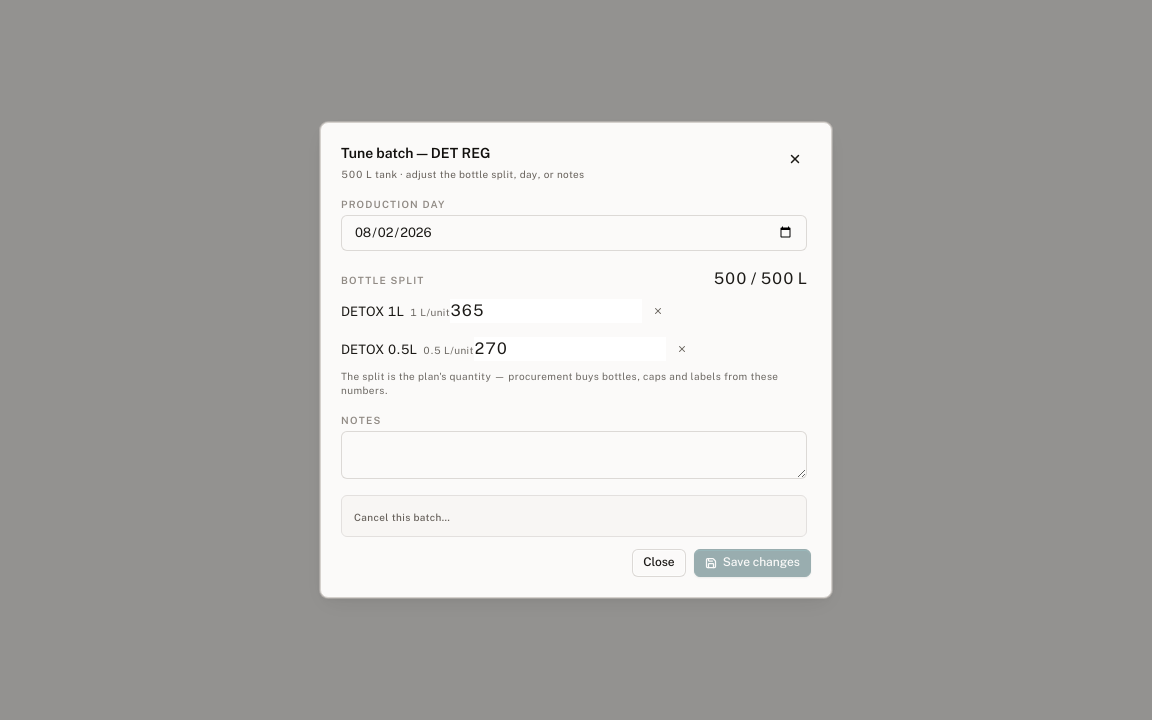
Test: BatchTuneDialog (base batch) › keeps Save disabled until something changes, then enables it and updates the meter
This screenshot has width=1152, height=720.
Expected: the button with test id "batch-tune-save" is disabled, [694,549,811,577]
Replace the text in the number field with test id "batch-tune-qty-FG-DET-1L" with "265" at coordinates (546, 311), box [450,299,642,323]
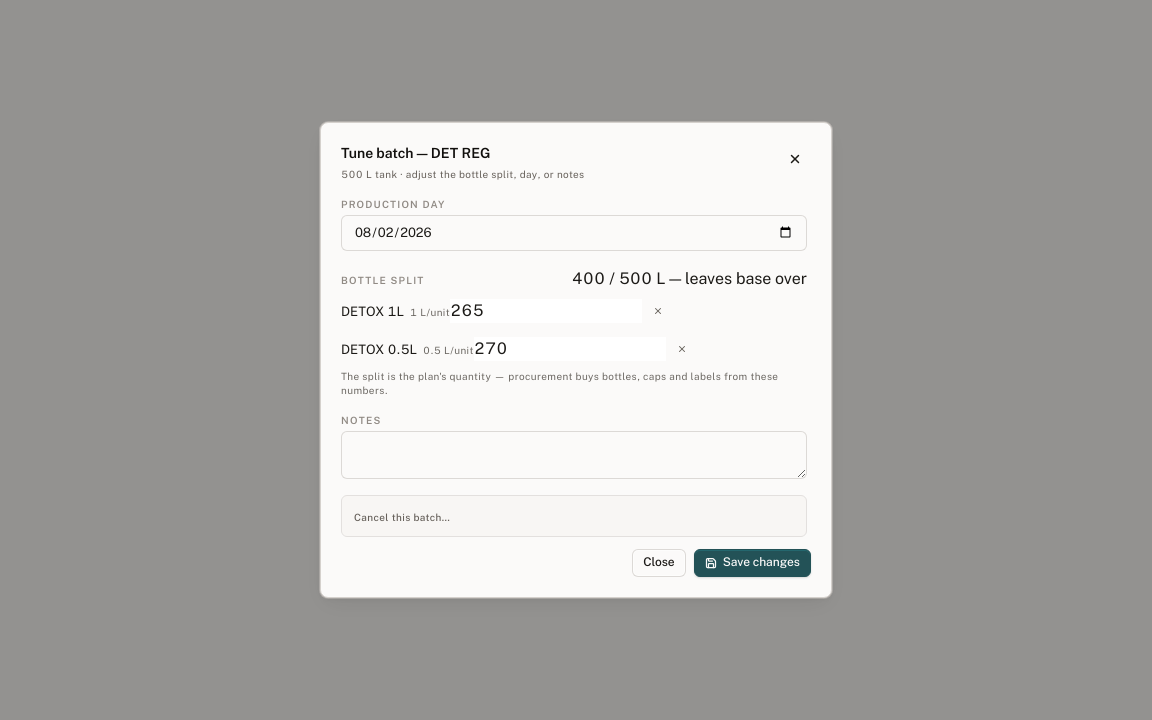
Now the message with test id "batch-tune-meter" shows "400 / 500 L", box [572,269,665,288]
Now the button with test id "batch-tune-save" is enabled, box [694,549,811,577]
